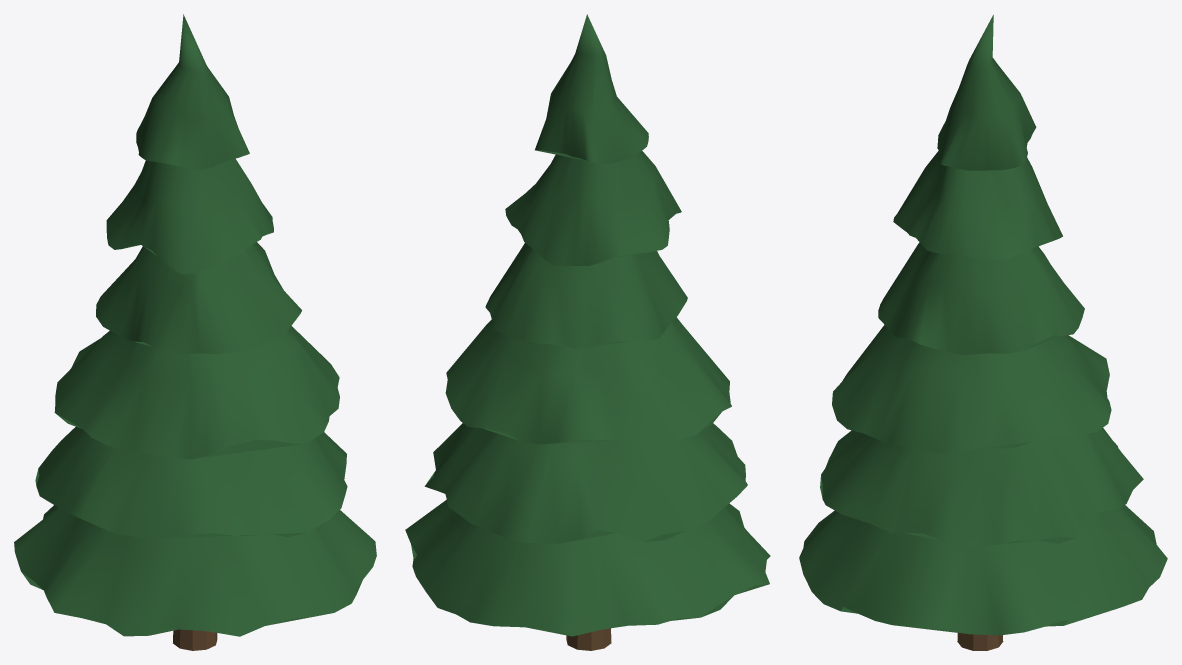
File: pine1.glb
The picture shows the model from 3 angles, left to right: view 1: azimuth 30°, elevation 25°; view 2: azimuth 150°, elevation 25°; view 3: azimuth 270°, elevation 25°; orthographic projection.
Visible parts, largest first — view 1: leaves, trunk; view 2: leaves, trunk; view 3: leaves, trunk.
Part boxes in pixels (box(x1,y1,x2,y2)): leaves: box(14, 14, 376, 636); trunk: box(173, 629, 217, 650); leaves: box(405, 14, 770, 636); trunk: box(566, 628, 611, 650); leaves: box(799, 14, 1167, 635); trunk: box(957, 633, 1003, 650).
Size of the model in its own units: 7.34 by 13.73 by 7.34.
